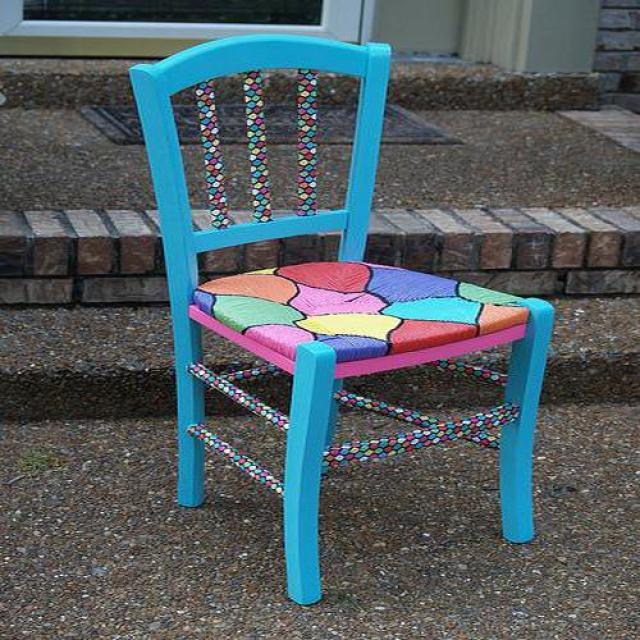chair: (129, 35, 556, 608)
